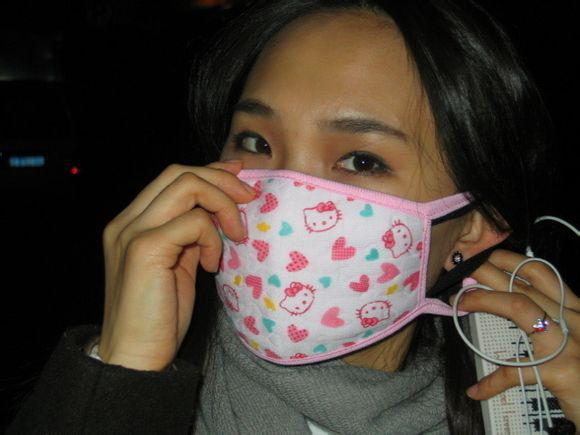OK: (209, 103, 462, 362)
